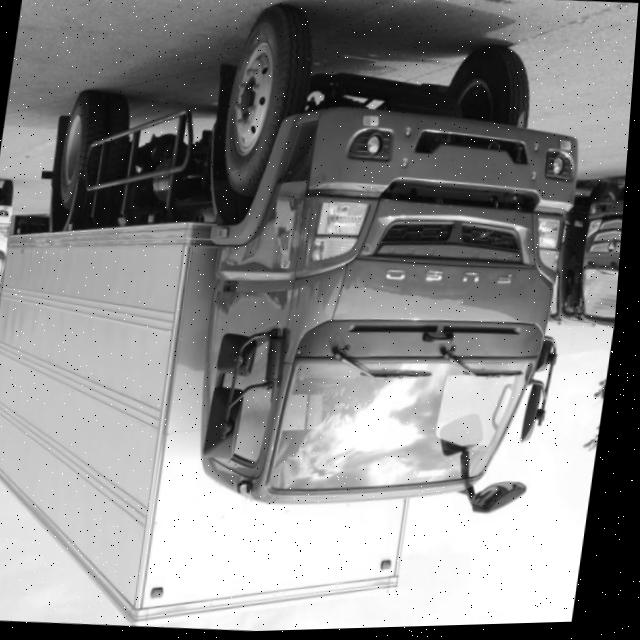truck: (135, 45, 618, 569)
